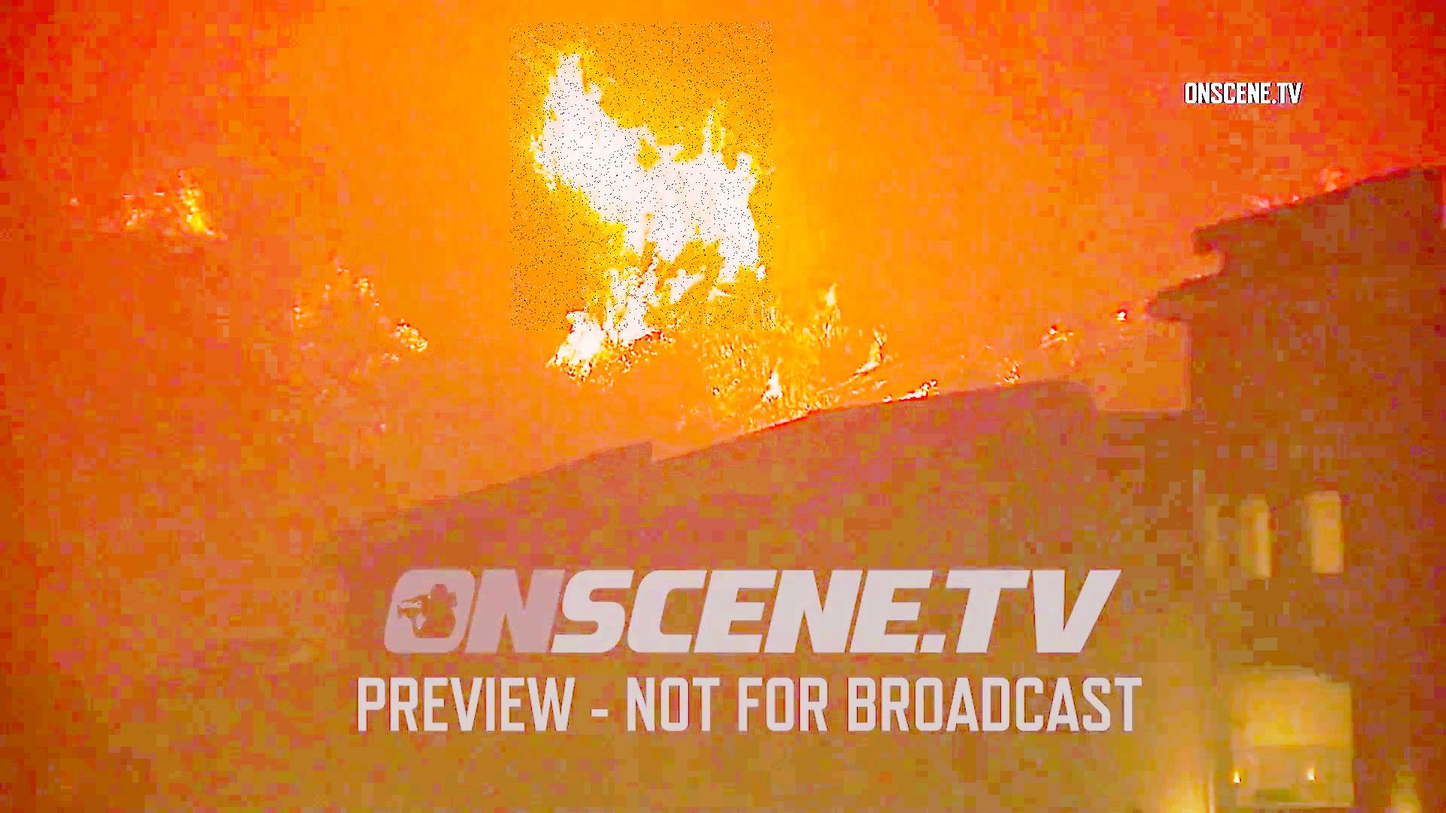fire: (511, 23, 773, 330)
